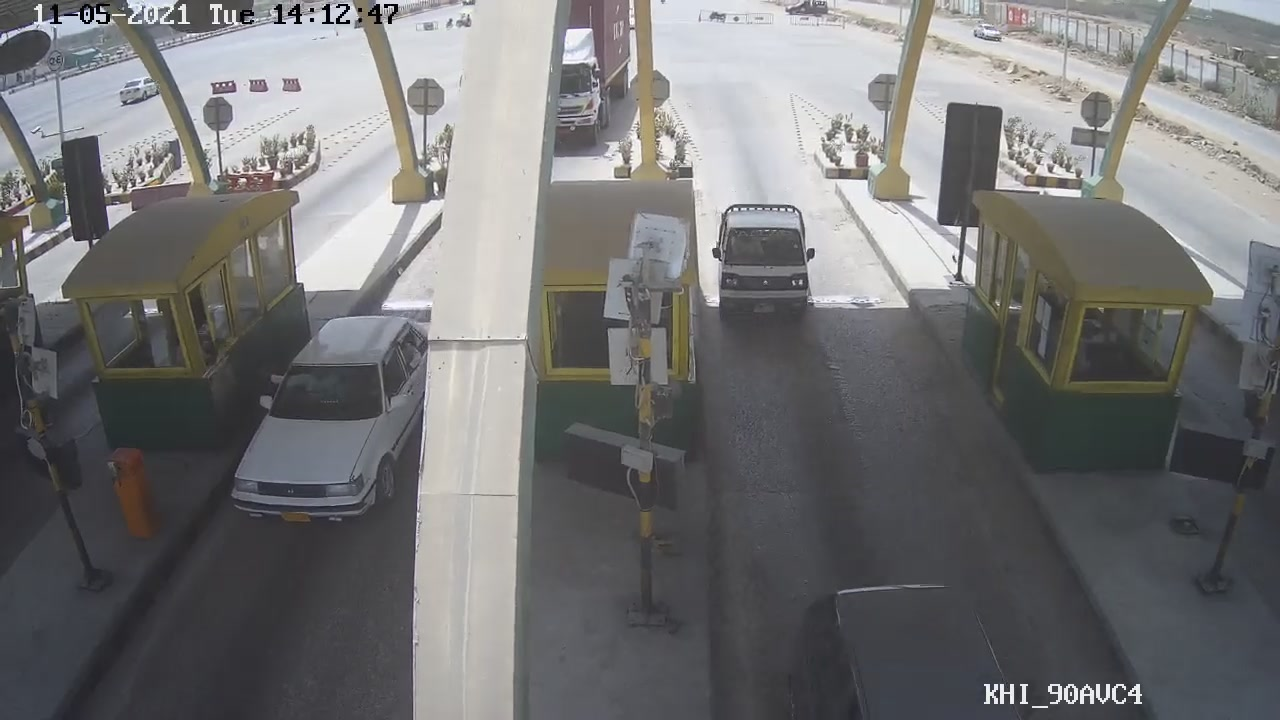F1: (706, 192, 835, 336)
